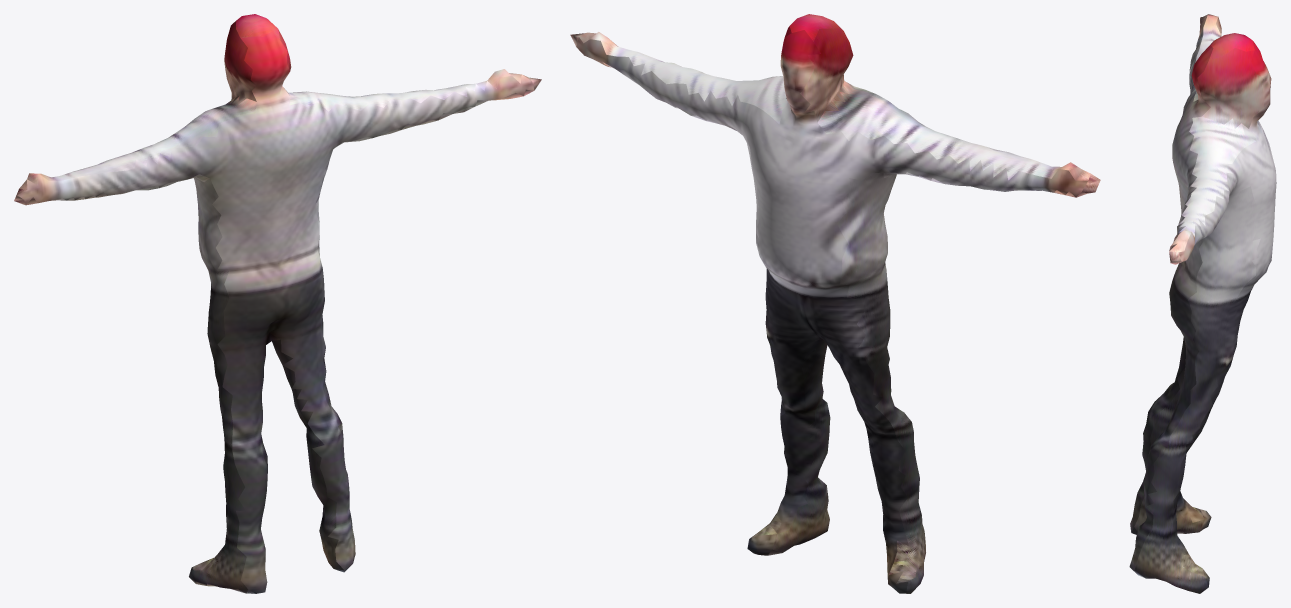
3 renders of one model, left to right at view 1: azimuth 30°, elevation 25°; view 2: azimuth 150°, elevation 25°; view 3: azimuth 270°, elevation 25°, orthographic. The views are drawn at different scales.
Visible parts, largest first — view 1: world; view 2: world; view 3: world.
Boxes of the visible parts, x1,y1,x2,y2 form: world: (14,14,541,593); world: (570,14,1100,593); world: (1129,14,1276,593).
Bounding box in the file's own units: 1 × 1 × 0.255.
Materials: 1 (1 with a texture image).
